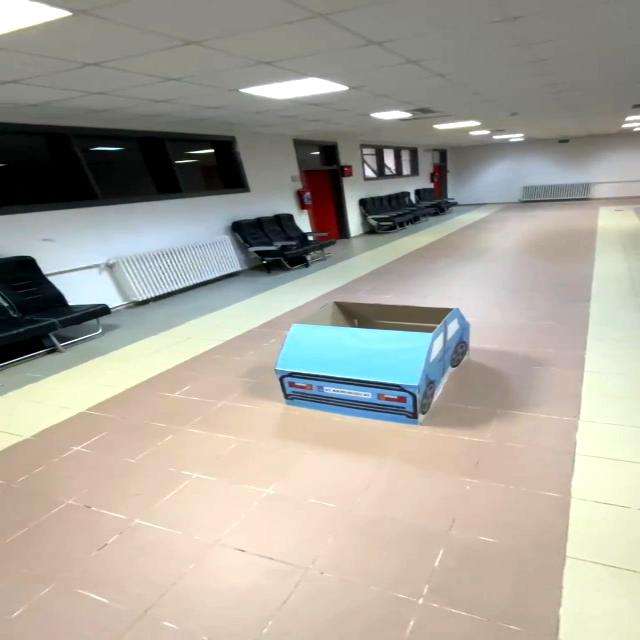blue_car: (237, 290, 482, 435)
